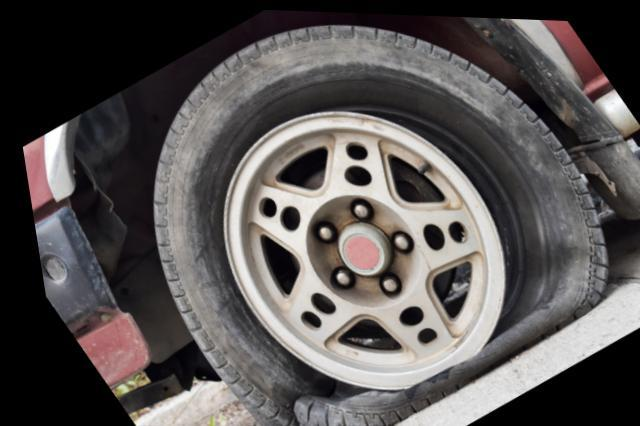tire flat: (145, 19, 603, 426)
